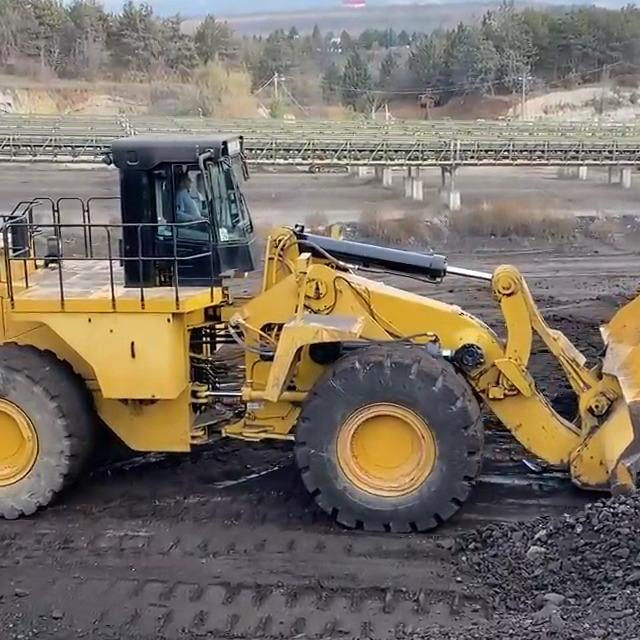NO-Hardhat: (178, 173, 192, 184)
NO-Mask: (185, 183, 194, 189)
NO-Safety Vest: (177, 191, 200, 219)
Person: (177, 173, 208, 225)
wheel loader: (0, 129, 640, 540)
